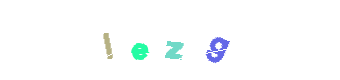E: (109, 0, 189, 80)
G: (177, 0, 257, 80)
L: (99, 0, 179, 80)
Z: (130, 0, 210, 80)
